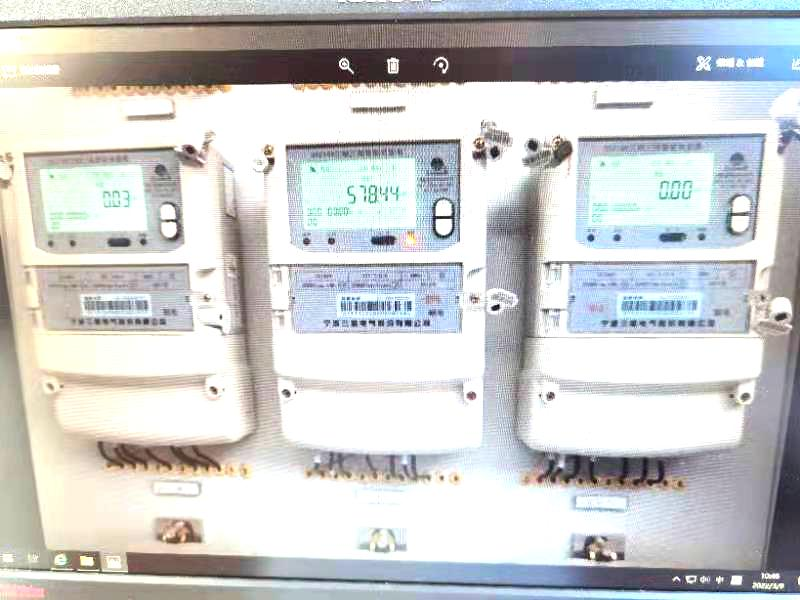digital: (529, 121, 782, 456), (262, 132, 481, 456), (13, 140, 240, 441)
